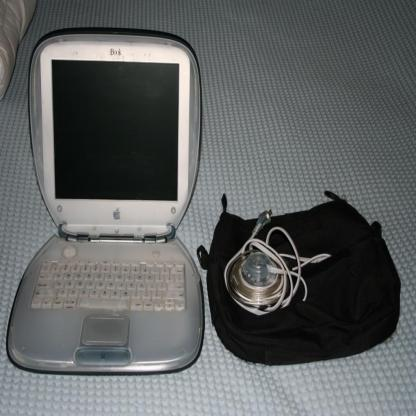board: (7, 16, 204, 388)
